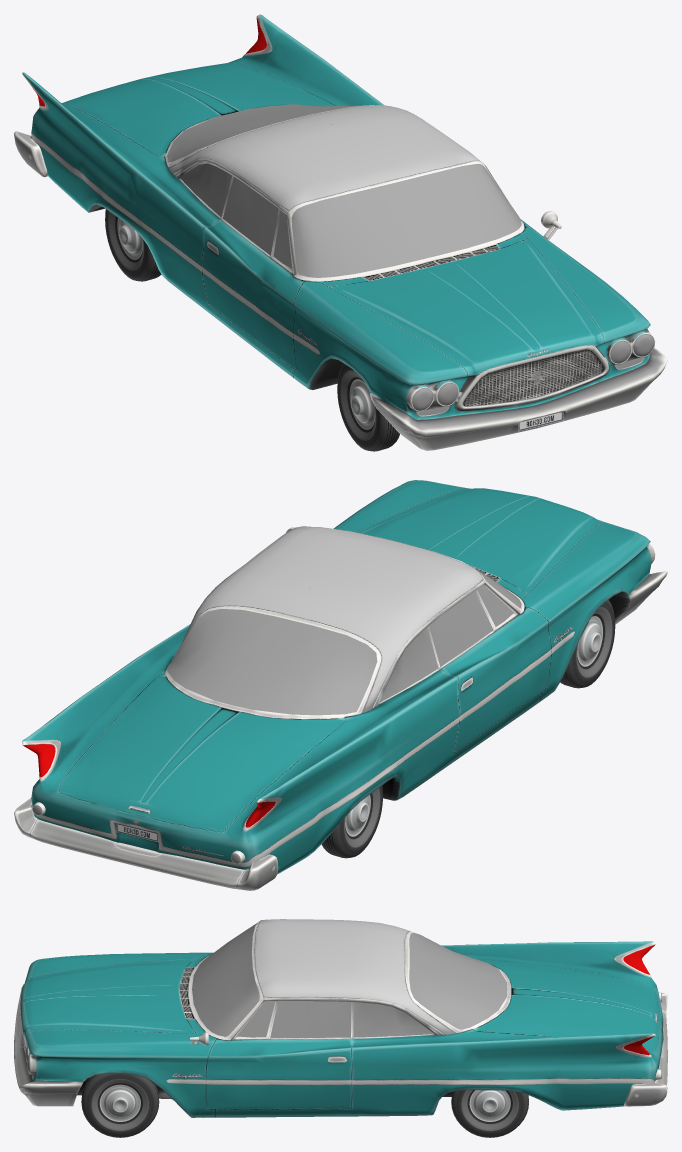
Rendered from car_sara_hd.glb.
The picture shows the model from 3 angles, top to bottom: view 1: azimuth 30°, elevation 25°; view 2: azimuth 150°, elevation 25°; view 3: azimuth 270°, elevation 25°; orthographic projection. The views are drawn at different scales.
Visible parts, largest first — view 1: Object_3, Object_4, Object_2; view 2: Object_3, Object_4, Object_2; view 3: Object_3, Object_4, Object_2.
Boxes of the visible parts, x1=… form: Object_3: x1=14, y1=14, x2=667, y2=450; Object_4: x1=32, y1=18, x2=654, y2=415; Object_2: x1=105, y1=209, x2=399, y2=451; Object_3: x1=14, y1=480, x2=667, y2=890; Object_4: x1=23, y1=570, x2=521, y2=863; Object_2: x1=321, y1=600, x2=615, y2=858; Object_3: x1=14, y1=919, x2=667, y2=1117; Object_4: x1=25, y1=923, x2=661, y2=1078; Object_2: x1=81, y1=1073, x2=528, y2=1137.
Bounding box in the file's own units: 216 × 140 × 573.
Materials: 3 (3 with a texture image).
